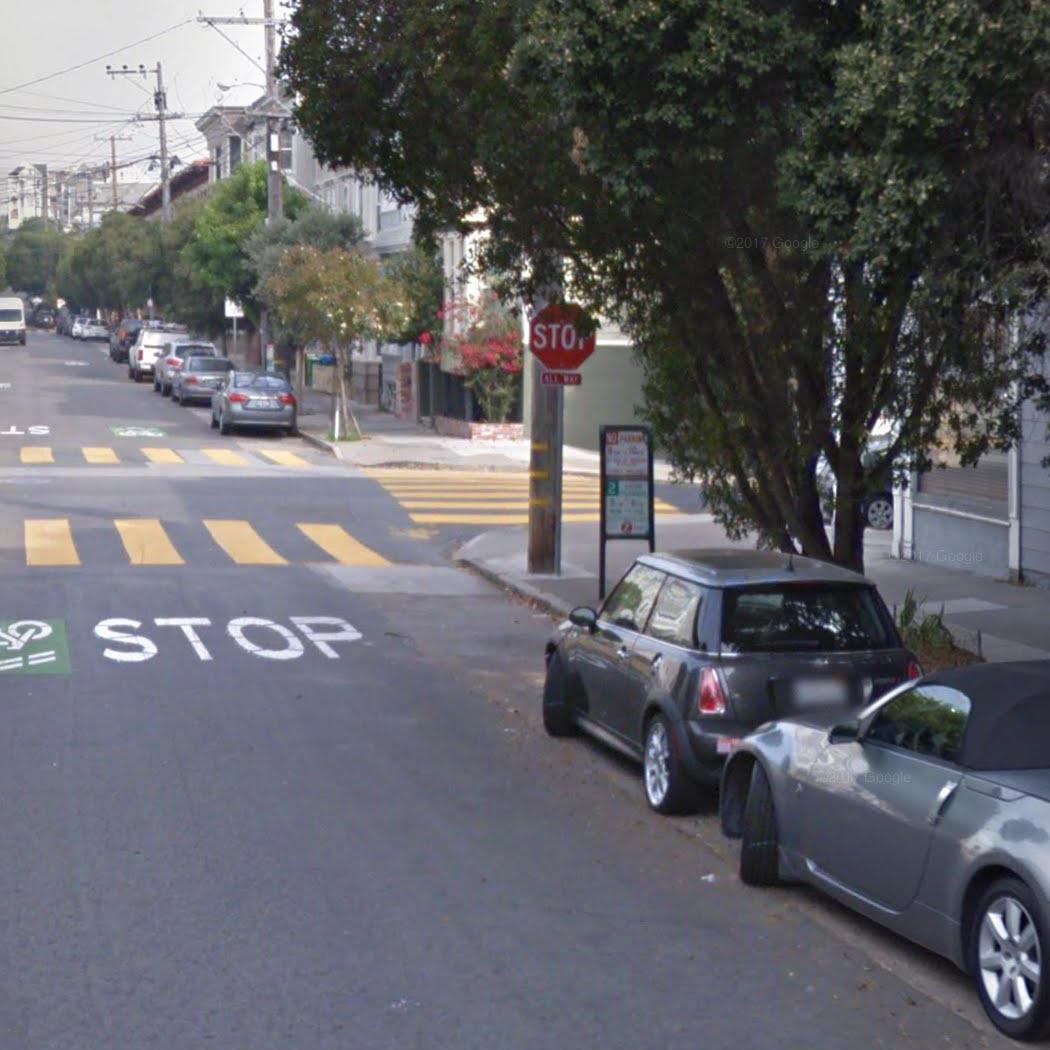2 Hour Parking: (599, 479, 655, 540)
No Parking: (598, 424, 654, 478)
